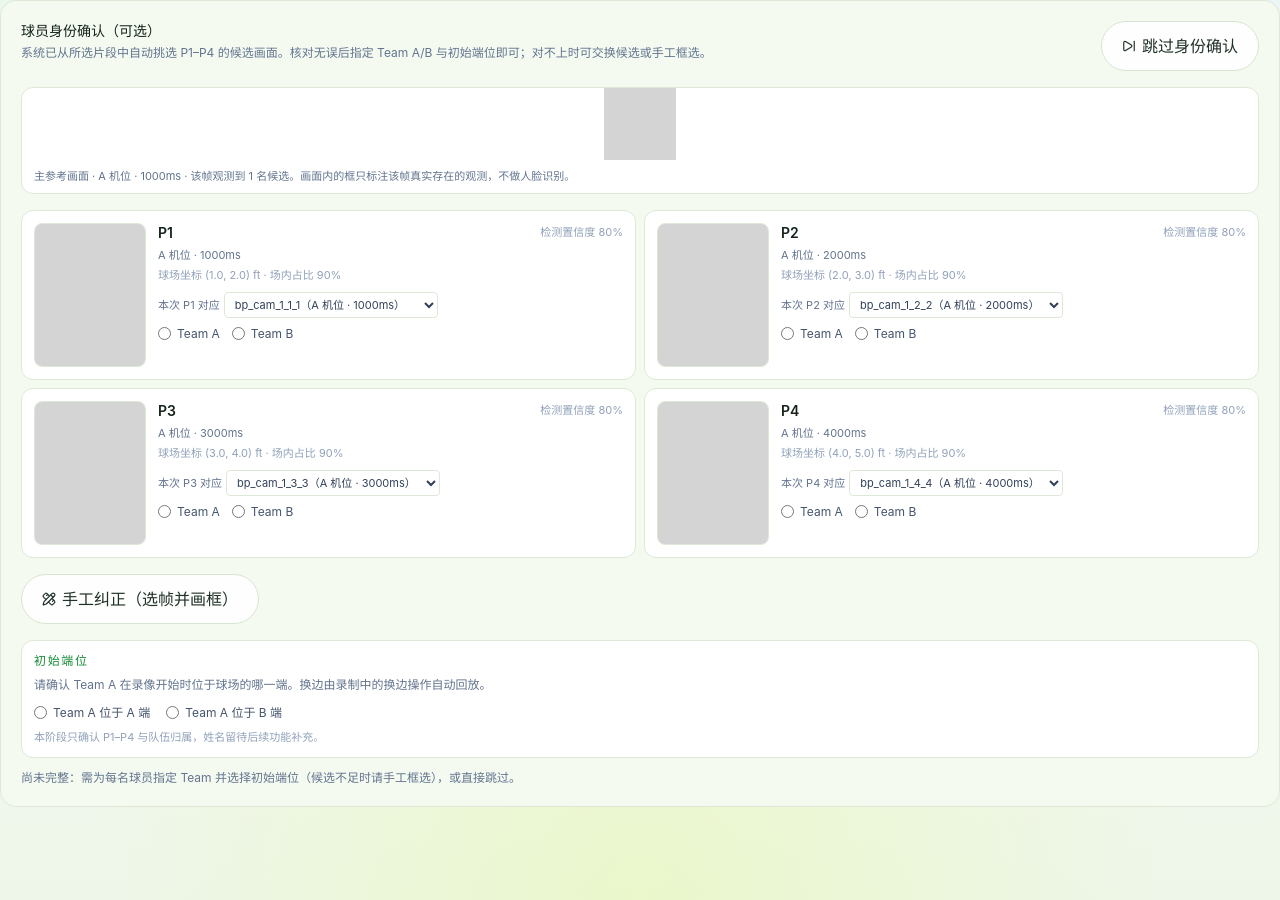
Test case: AnalysisRosterConfirmation › 人工确认队伍与端位后回抛冻结名册（含 candidate_id 与锚点）
This screenshot has width=1280, height=900.
Click the radio button with test id "roster-team-0-A": (164, 334) [158,327,171,340]
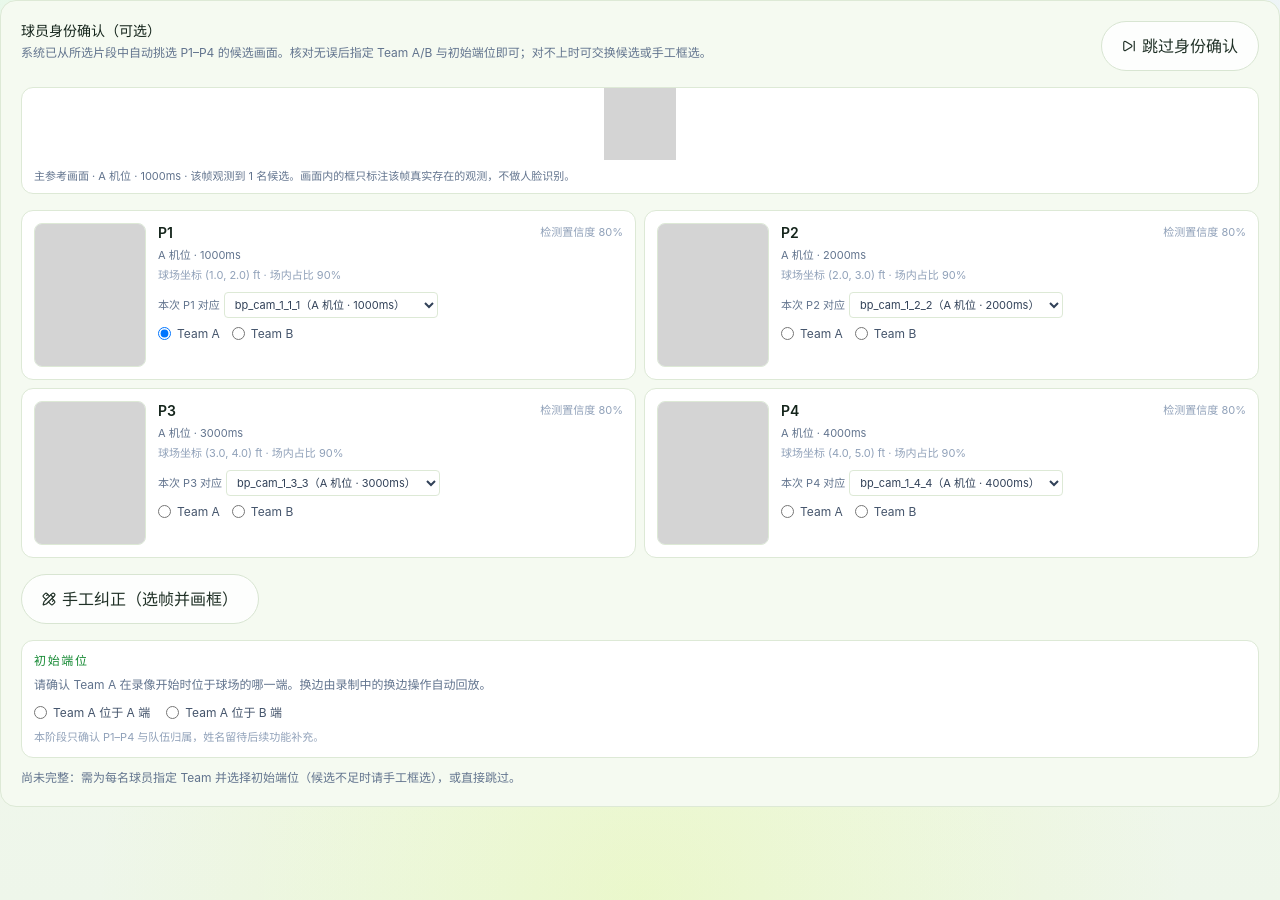
Click the radio button with test id "roster-team-1-A": (788, 334) [781,327,794,340]
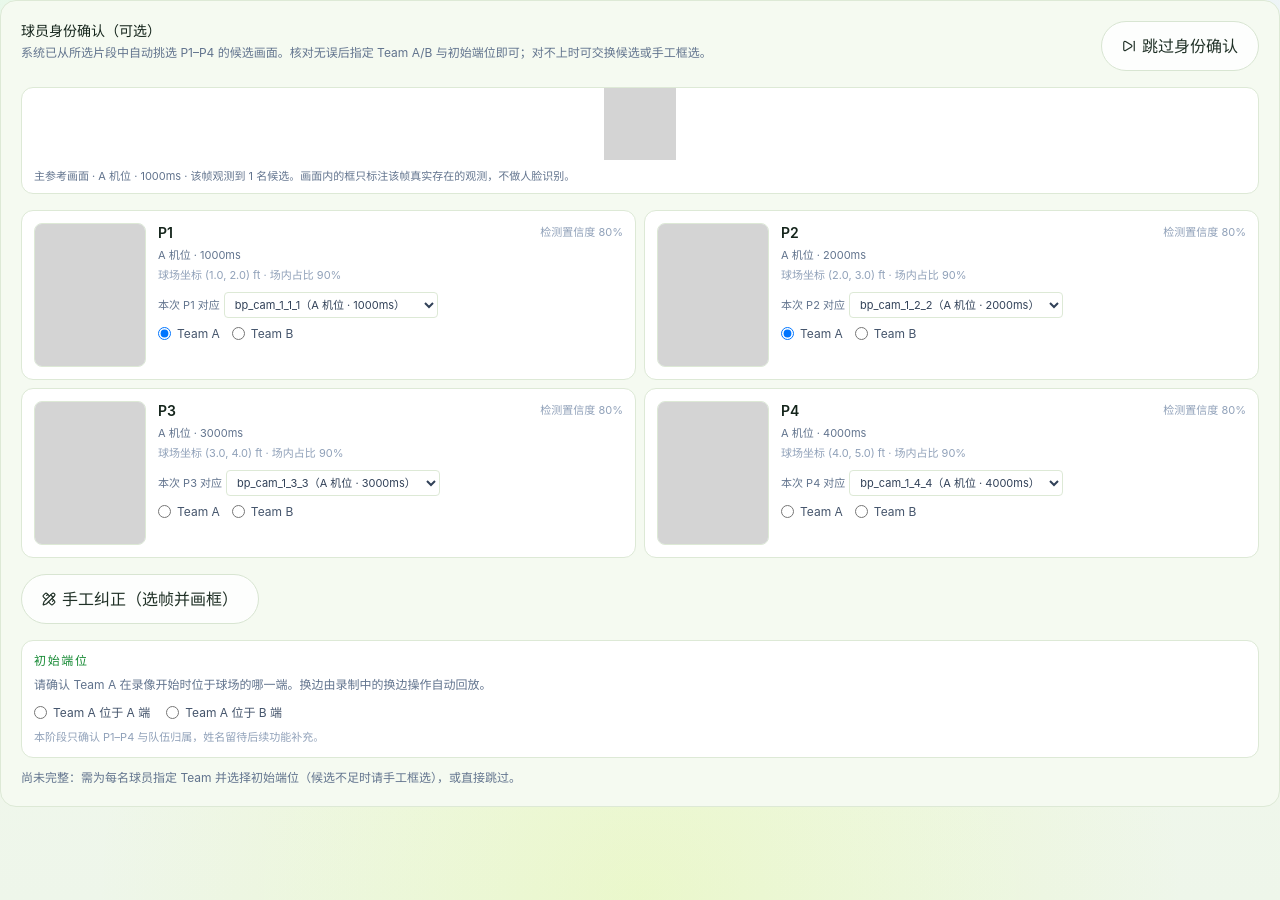
Click the radio button with test id "roster-team-2-B": (238, 512) [232,505,245,518]
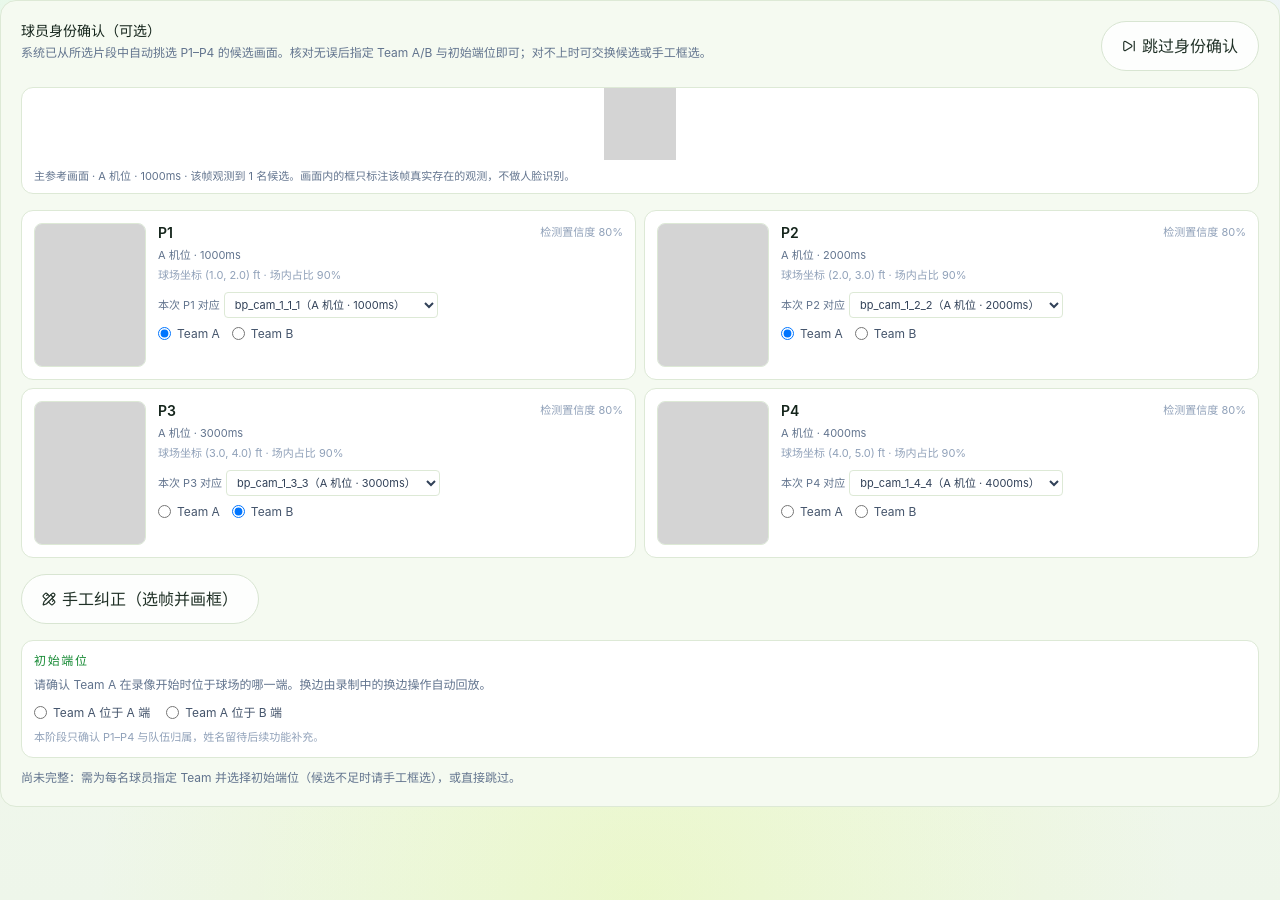
Click the radio button with test id "roster-team-3-B": (861, 512) [855,505,868,518]
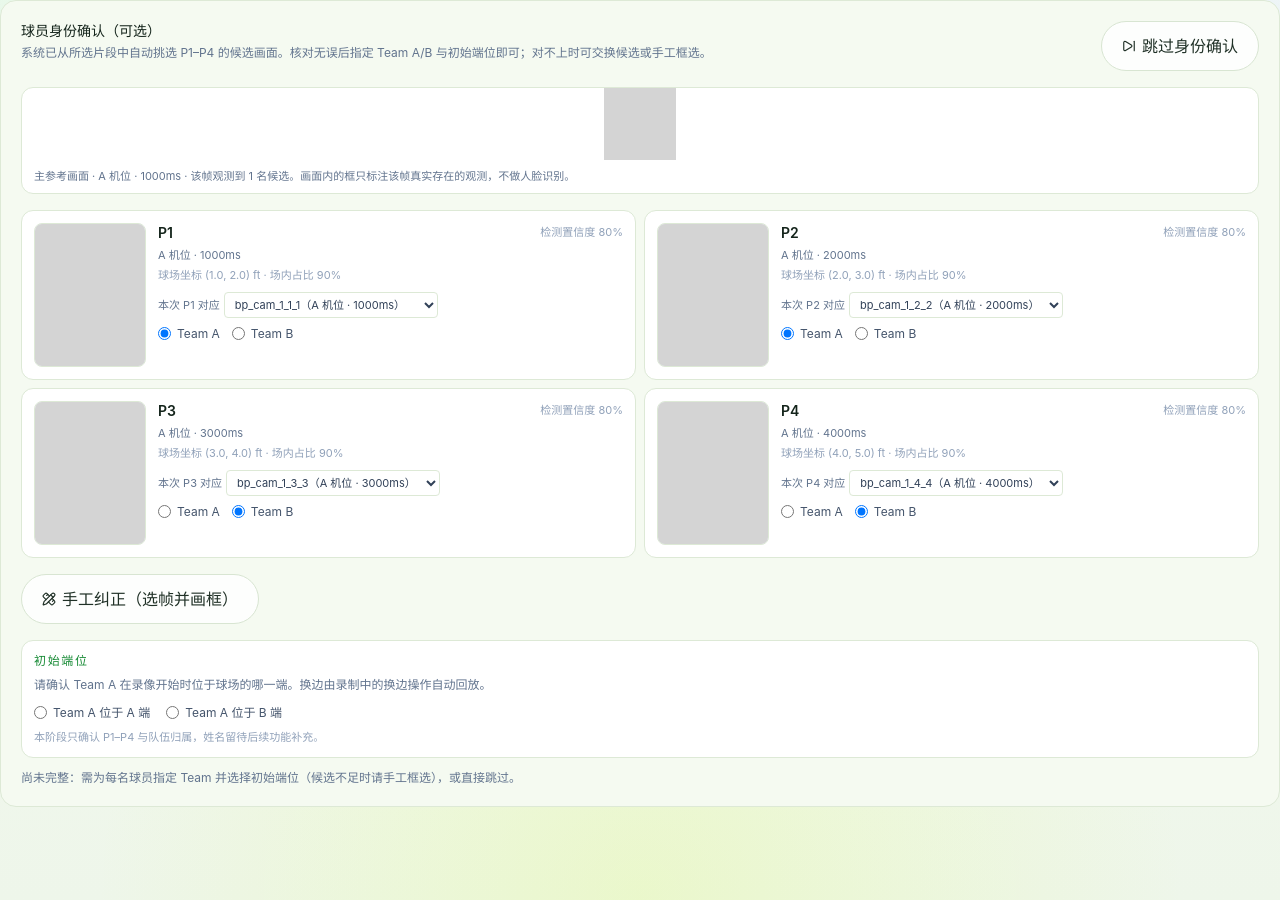
Click the radio button with test id "court-end-end_a": (40, 712) [34,706,47,719]
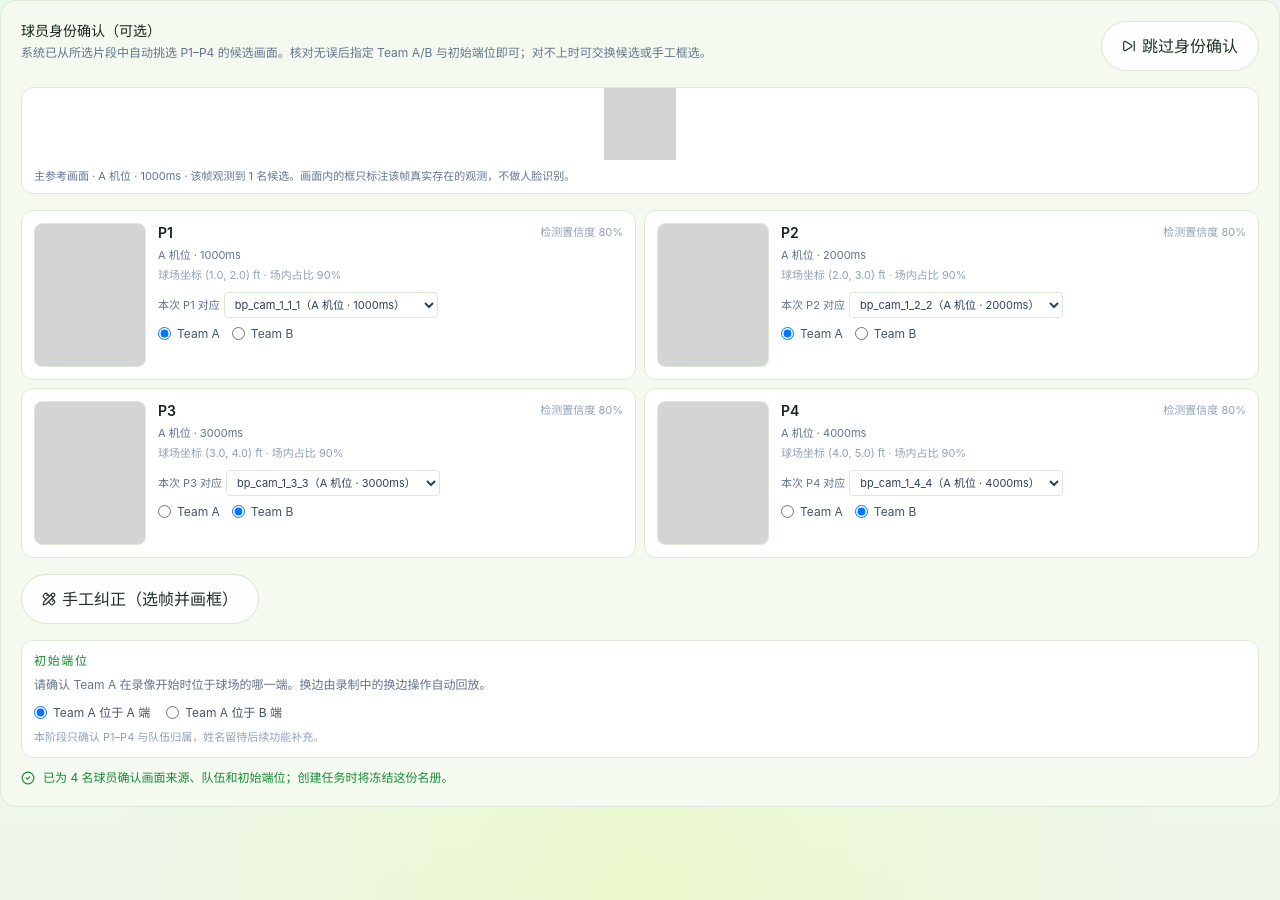
Result: the element with test id "roster-ready" shows "4 名球员" at [21,770,454,785]
